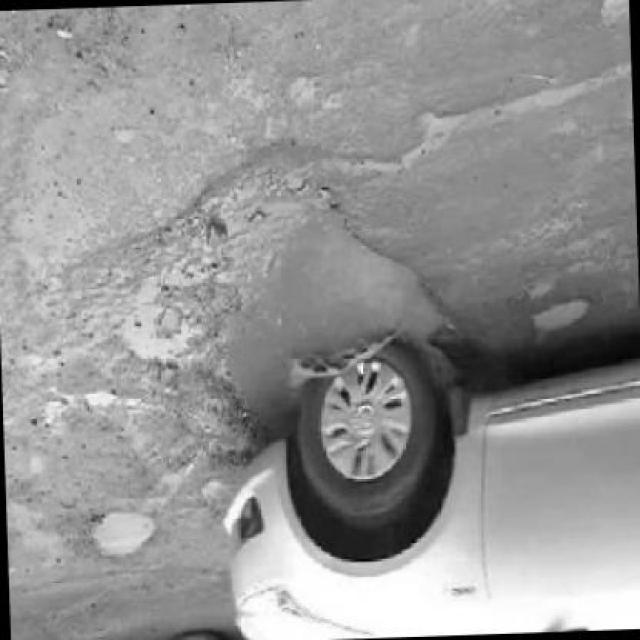pothole: (142, 142, 468, 482), (86, 512, 160, 566), (528, 295, 594, 340), (4, 436, 51, 496)
